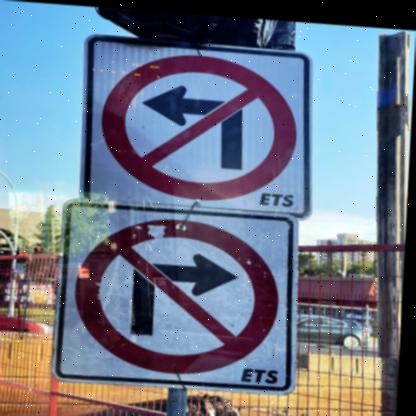No left turn: (78, 31, 320, 217)
No right turn: (45, 203, 303, 390)
